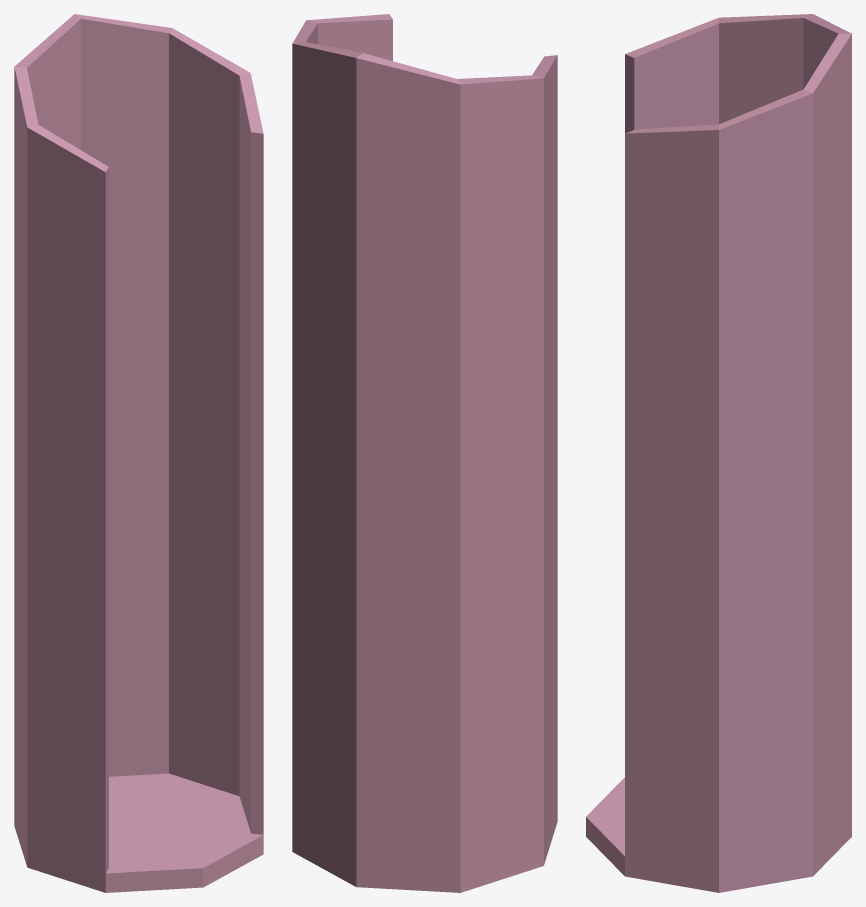
File: Toilet Roll Dispenser.fbx
The picture shows the model from 3 angles, left to right: view 1: azimuth 30°, elevation 25°; view 2: azimuth 150°, elevation 25°; view 3: azimuth 270°, elevation 25°; orthographic projection. The views are drawn at different scales.
Parts seen in each view (by area): view 1: Toilet Roll Dispenser; view 2: Toilet Roll Dispenser; view 3: Toilet Roll Dispenser.
Boxes of the visible parts, x1,y1,x2,y2 form: Toilet Roll Dispenser: (14,14,263,892); Toilet Roll Dispenser: (292,14,557,892); Toilet Roll Dispenser: (586,14,851,892).
Size of the model in its own units: 120 by 400 by 120.
